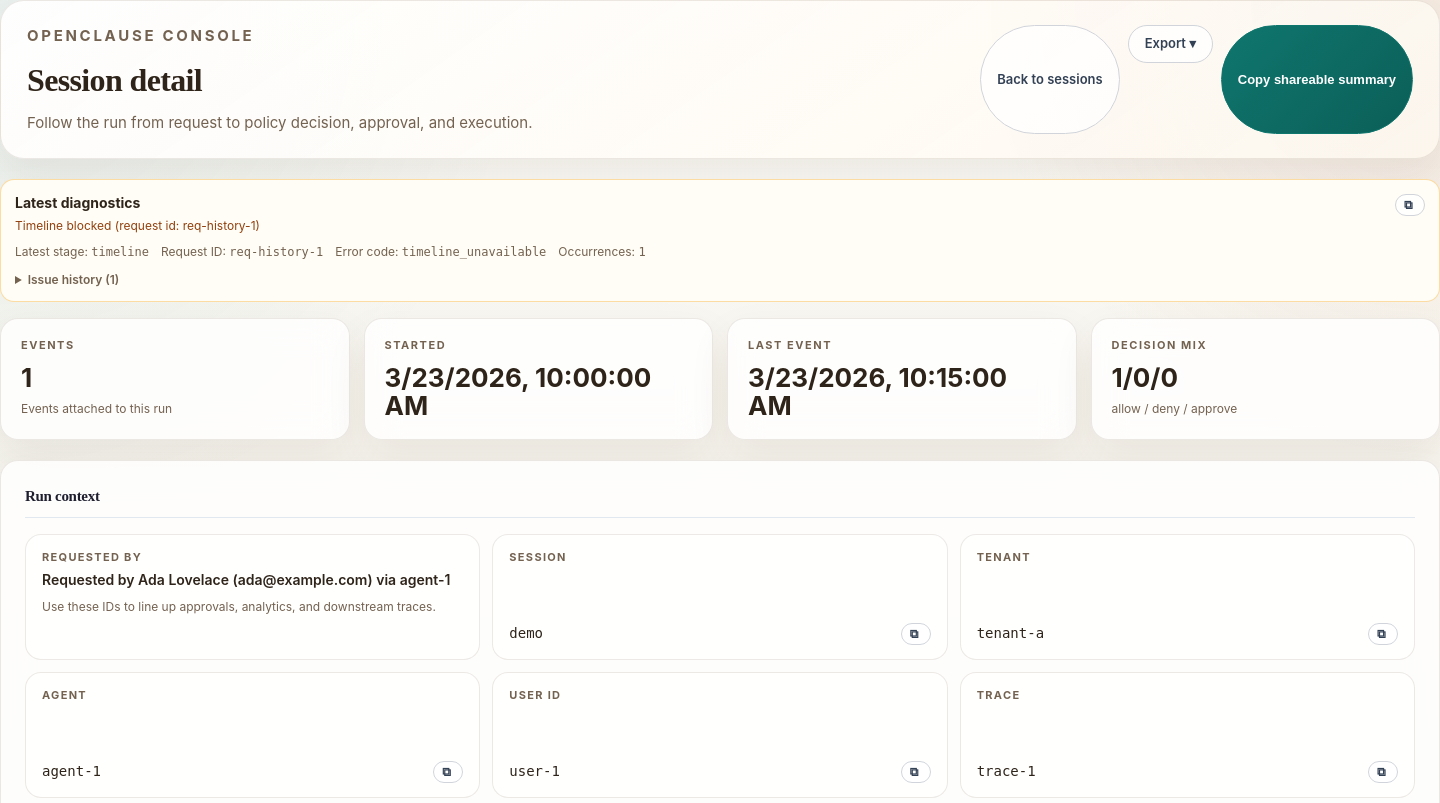
Test: Session detail page › tracks multiple active issues in session diagnostics history and clears repeated-triage state after recovery
Step 1. Click the heading "Export ▾" → [1170, 44], box [1128, 25, 1213, 62]
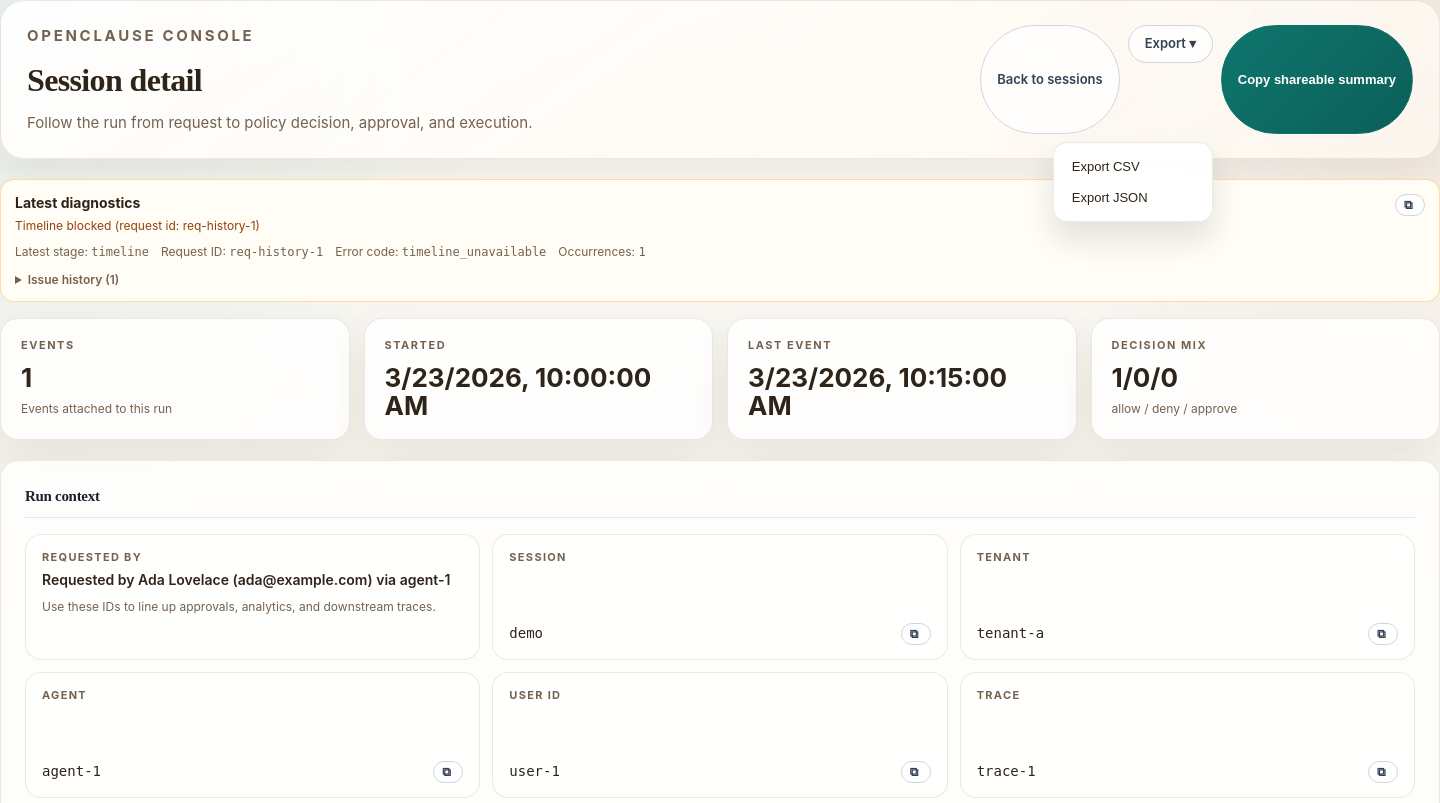
Step 2. Click the button "Export CSV" → [1133, 166], box [1062, 151, 1204, 182]
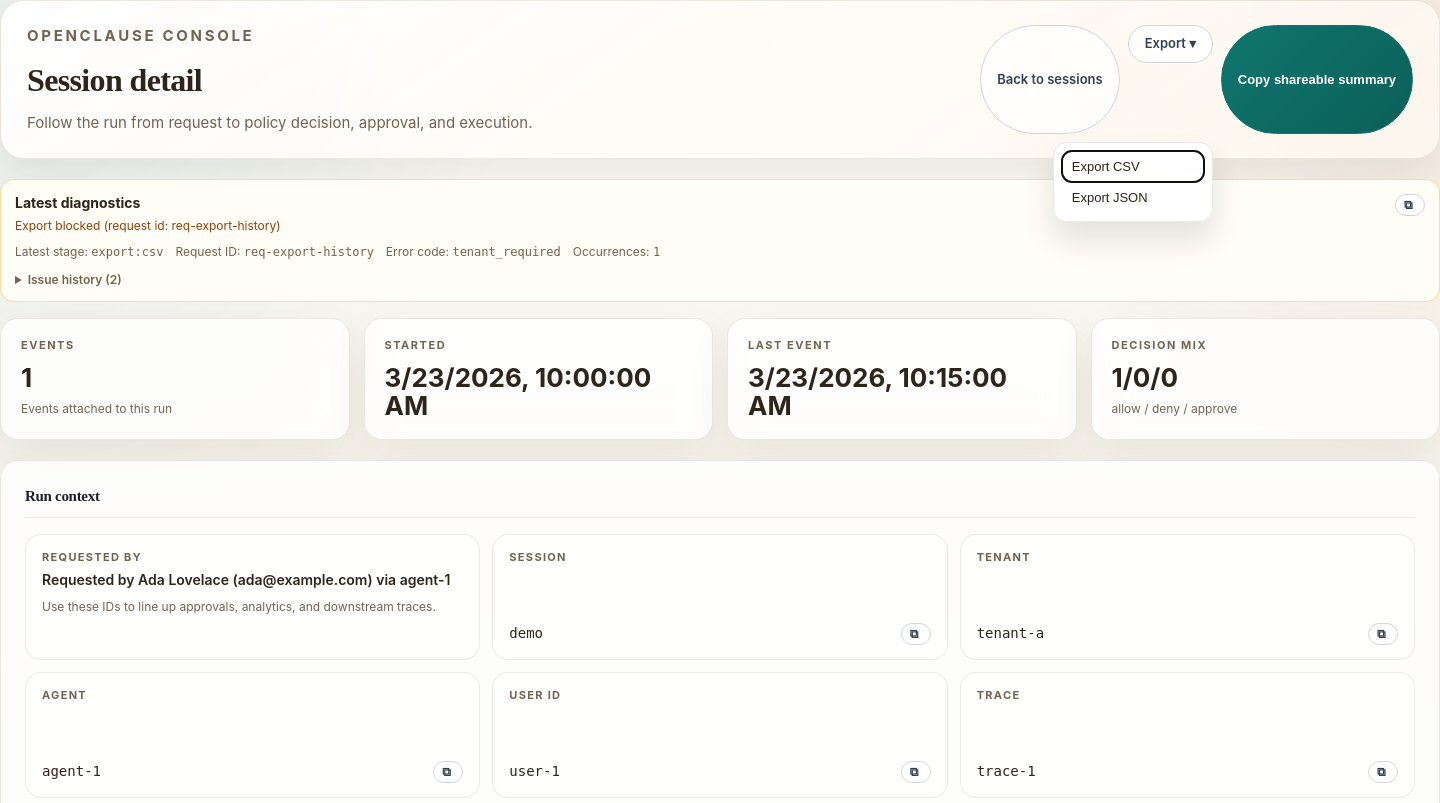
Expected: the heading "Issue history (2)" is shown, [28, 272, 122, 287]
Expected: the text "export:csv" is shown, [91, 245, 164, 259]
Step 3. Click the button named "copy session diagnostics" → [1410, 204], box [1395, 194, 1425, 216]
(page scrolled)
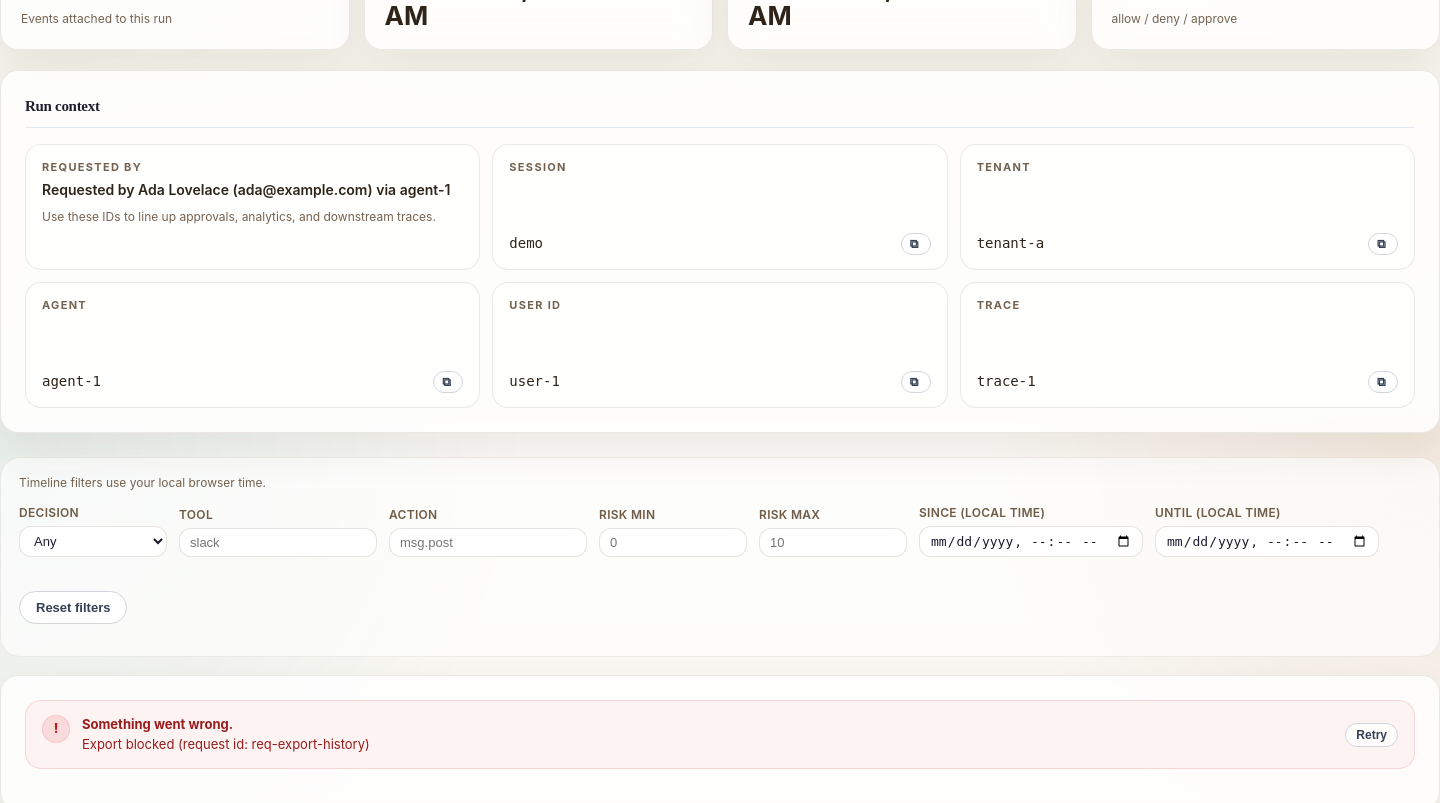
Step 4. Click the button "Retry" → [1372, 735], box [1345, 723, 1398, 747]
(page scrolled)
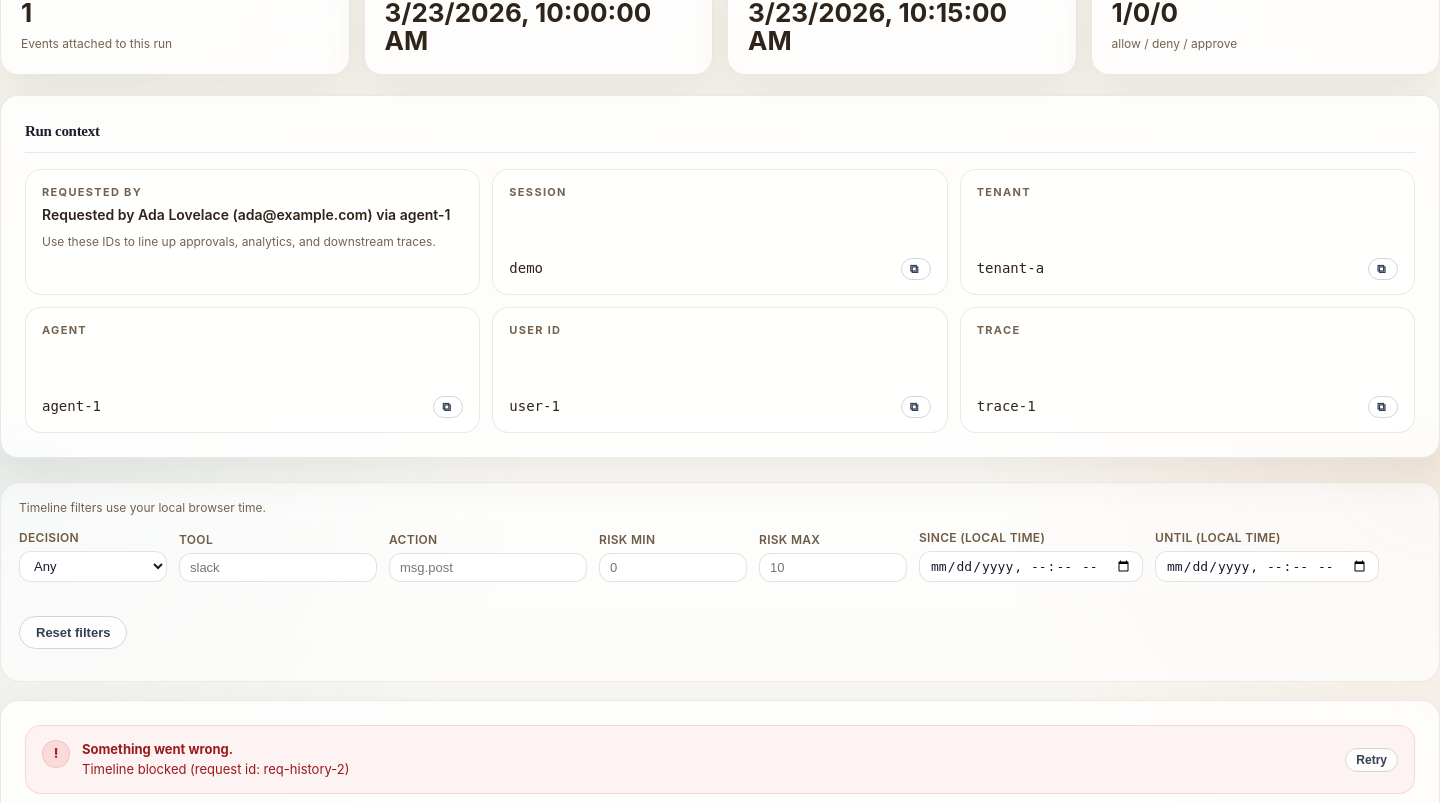
Step 5. Click the button "Retry" → [1372, 760], box [1345, 748, 1398, 772]
(page scrolled)
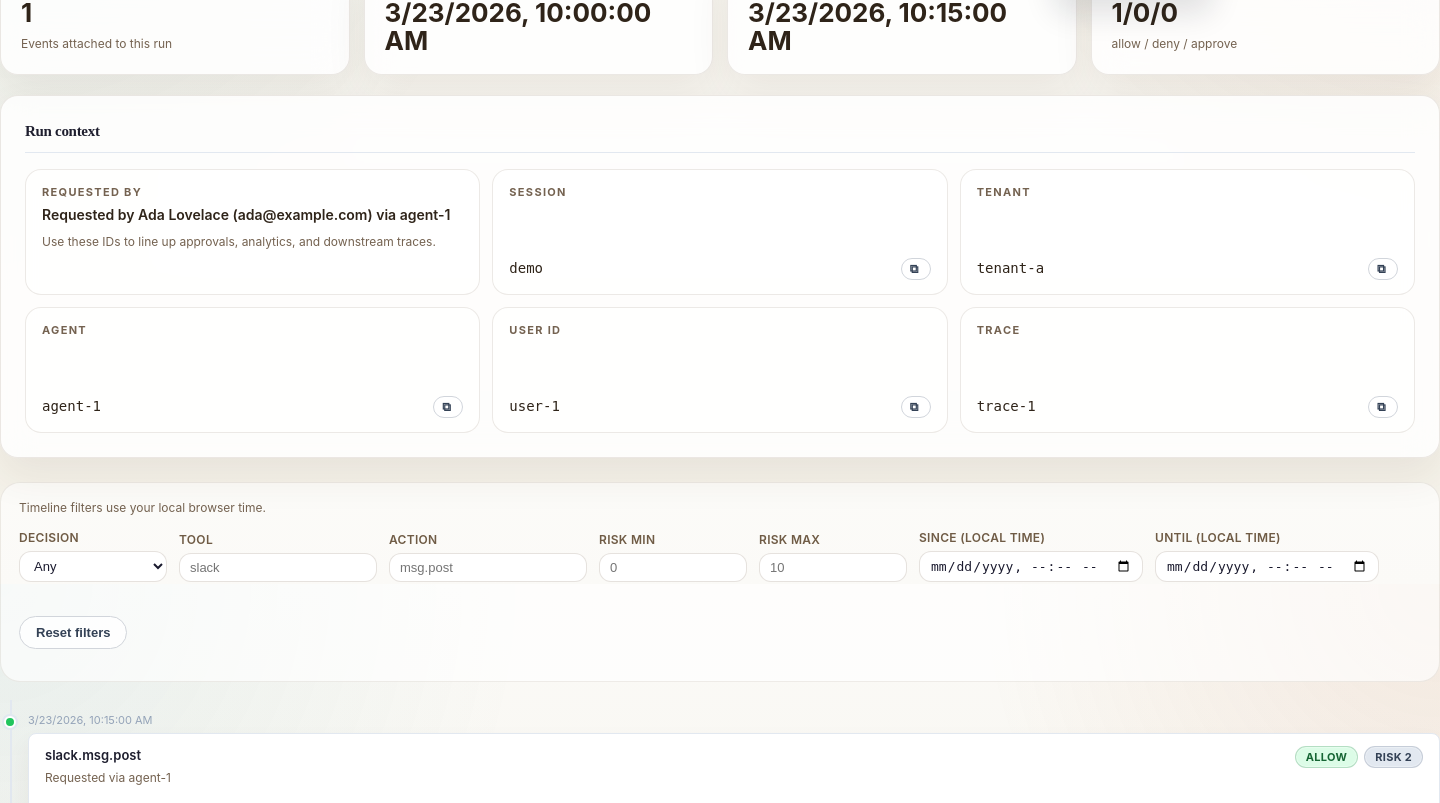
Expected: the text "slack.msg.post" is shown, [45, 747, 141, 763]
